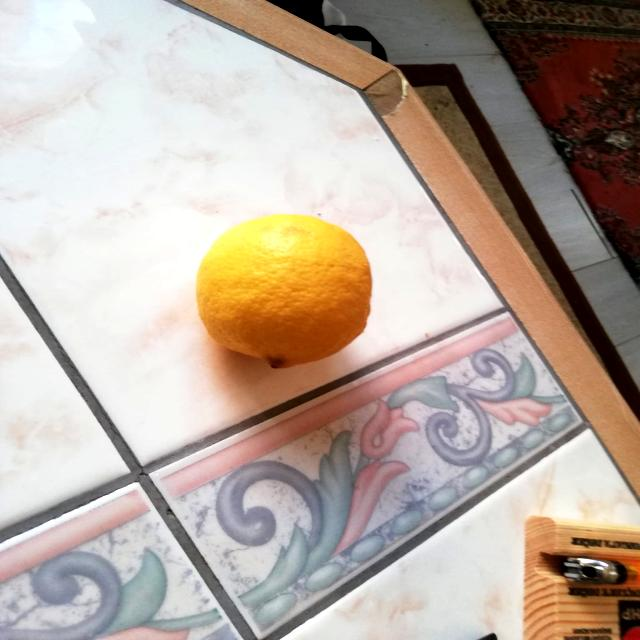lemon: (188, 201, 384, 375)
